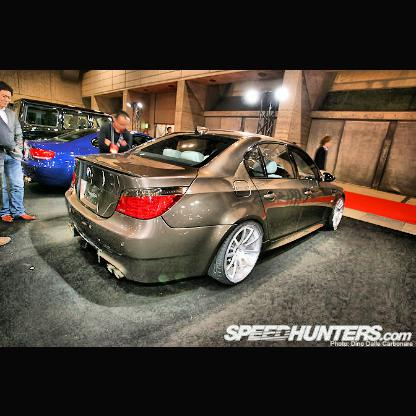BMW M5 Sedan 2010: (69, 125, 348, 286)
